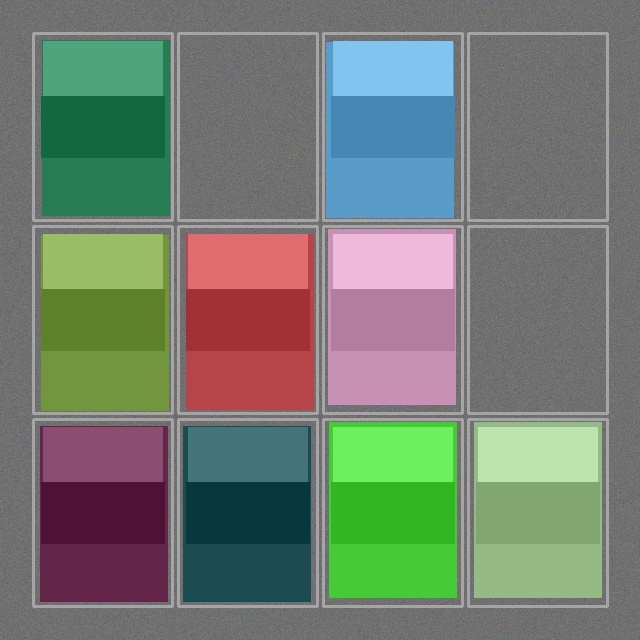space-empty: (180, 35, 315, 218), (470, 35, 605, 218), (470, 228, 605, 411)
space-occupied: (35, 35, 170, 218), (325, 35, 460, 218), (35, 228, 170, 411), (180, 228, 315, 411), (325, 228, 460, 411), (35, 421, 170, 604), (180, 421, 315, 604), (325, 421, 460, 604), (470, 421, 605, 604)
